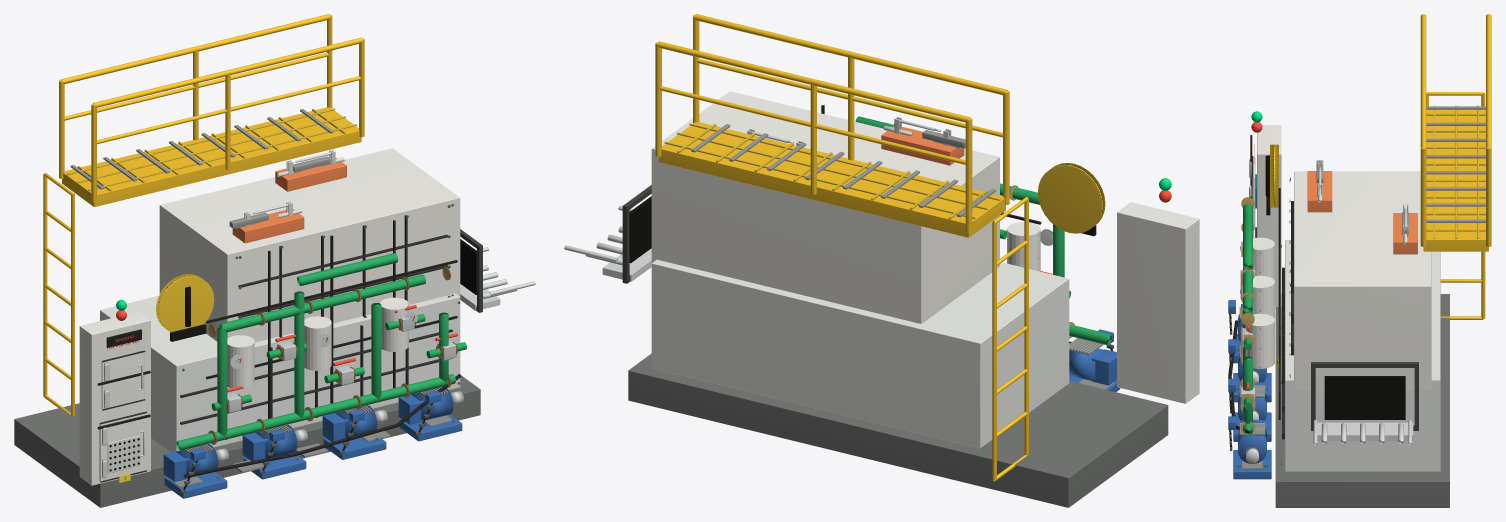
File: photo_washing_machine_v4.glb
The picture shows the model from 3 angles, left to right: view 1: azimuth 30°, elevation 25°; view 2: azimuth 150°, elevation 25°; view 3: azimuth 270°, elevation 25°; orthographic projection. The views are drawn at different scales.
Parts seen in each view (by area): view 1: wash_upper_process_tank, wash_lower_tank, wash_upper_service_platform_deck, wash_base_frame, wash_control_cabinet, wash_green_lower_header, wash_v4_yellow_side_round_cover, wash_green_mid_header, wash_v3_control_cabinet_upper_cabinet_door_panel, wash_upper_service_platform_top_rail_0.5, wash_upper_service_platform_top_rail_1.1, wash_v3_control_cabinet_lower_cabinet_door_panel (+34 smaller); view 2: wash_lower_tank, wash_upper_process_tank, wash_base_frame, wash_control_cabinet, wash_upper_service_platform_deck, wash_v4_yellow_side_round_cover, wash_upper_service_platform_top_rail_1.1, wash_upper_service_platform_top_rail_0.5, wash_upper_service_platform_mid_rail_1.1, wash_upper_service_platform_mid_rail_0.5, wash_top_lid_orange_left, wash_ladder_ladder_right (+13 smaller); view 3: wash_upper_process_tank, wash_lower_tank, wash_base_frame, wash_upper_service_platform_deck, wash_v4_feed_mouth_dark_opening, wash_control_cabinet, wash_v4_feed_mouth_lower_lip, wash_filter_canister_3, wash_top_lid_orange_left, wash_upper_service_platform_top_rail_0.5, wash_top_lid_orange_right, wash_filter_canister_2 (+19 smaller).
Boxes of the visible parts, x1,y1,x2,y2 form: wash_upper_process_tank: (159,148,460,342); wash_lower_tank: (100,293,460,452); wash_upper_service_platform_deck: (62,107,361,207); wash_base_frame: (14,375,480,507); wash_control_cabinet: (79,311,150,485); wash_green_lower_header: (176,374,455,450); wash_v4_yellow_side_round_cover: (156,274,214,332); wash_green_mid_header: (219,274,425,332); wash_v3_control_cabinet_upper_cabinet_door_panel: (101,350,144,408); wash_upper_service_platform_top_rail_0.5: (93,37,362,107); wash_upper_service_platform_top_rail_1.1: (61,14,330,83); wash_v3_control_cabinet_lower_cabinet_door_panel: (99,411,146,481); wash_lower_tank: (651,259,1069,448); wash_upper_process_tank: (651,91,999,323); wash_base_frame: (628,353,1168,507); wash_control_cabinet: (1117,202,1199,403); wash_upper_service_platform_deck: (659,122,1005,237); wash_v4_yellow_side_round_cover: (1038,163,1105,233); wash_upper_service_platform_top_rail_1.1: (657,41,970,122); wash_upper_service_platform_top_rail_0.5: (694,14,1007,95); wash_upper_service_platform_mid_rail_1.1: (659,86,965,164); wash_upper_service_platform_mid_rail_0.5: (696,58,1003,137); wash_top_lid_orange_left: (881,126,964,165); wash_ladder_ladder_right: (992,222,996,480); wash_upper_process_tank: (1294,171,1431,388); wash_lower_tank: (1285,240,1440,471); wash_base_frame: (1275,294,1449,507); wash_upper_service_platform_deck: (1423,109,1488,251); wash_v4_feed_mouth_dark_opening: (1324,376,1405,419); wash_control_cabinet: (1257,125,1281,306); wash_v4_feed_mouth_lower_lip: (1317,422,1413,440); wash_filter_canister_3: (1245,313,1274,368); wash_top_lid_orange_left: (1307,171,1332,212); wash_upper_service_platform_top_rail_0.5: (1420,14,1426,147); wash_top_lid_orange_right: (1393,213,1417,254); wash_filter_canister_2: (1253,275,1274,318).
Size of the model in its own units: 4.9 by 3.32 by 2.34.
